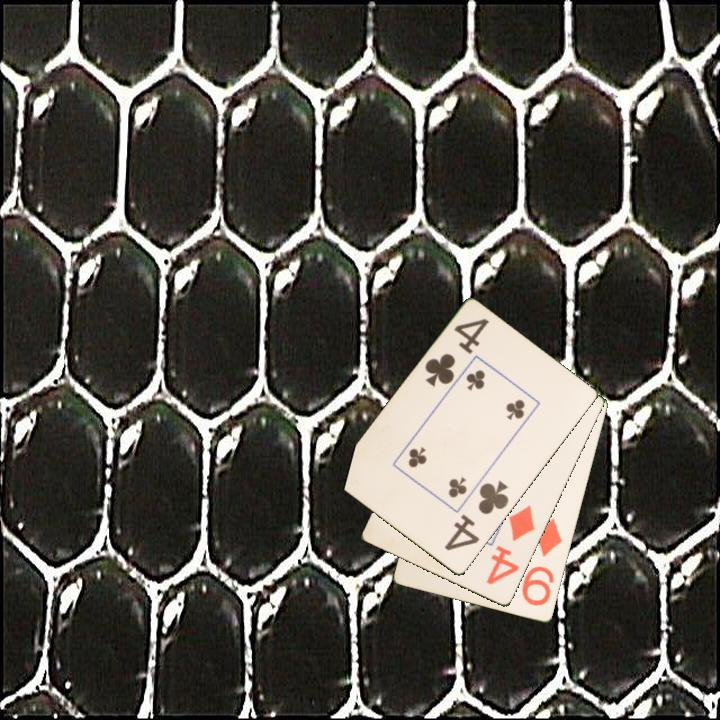4c: (441, 477, 512, 554), (421, 315, 492, 390)
4d: (483, 502, 538, 588)
9d: (518, 515, 566, 609)
